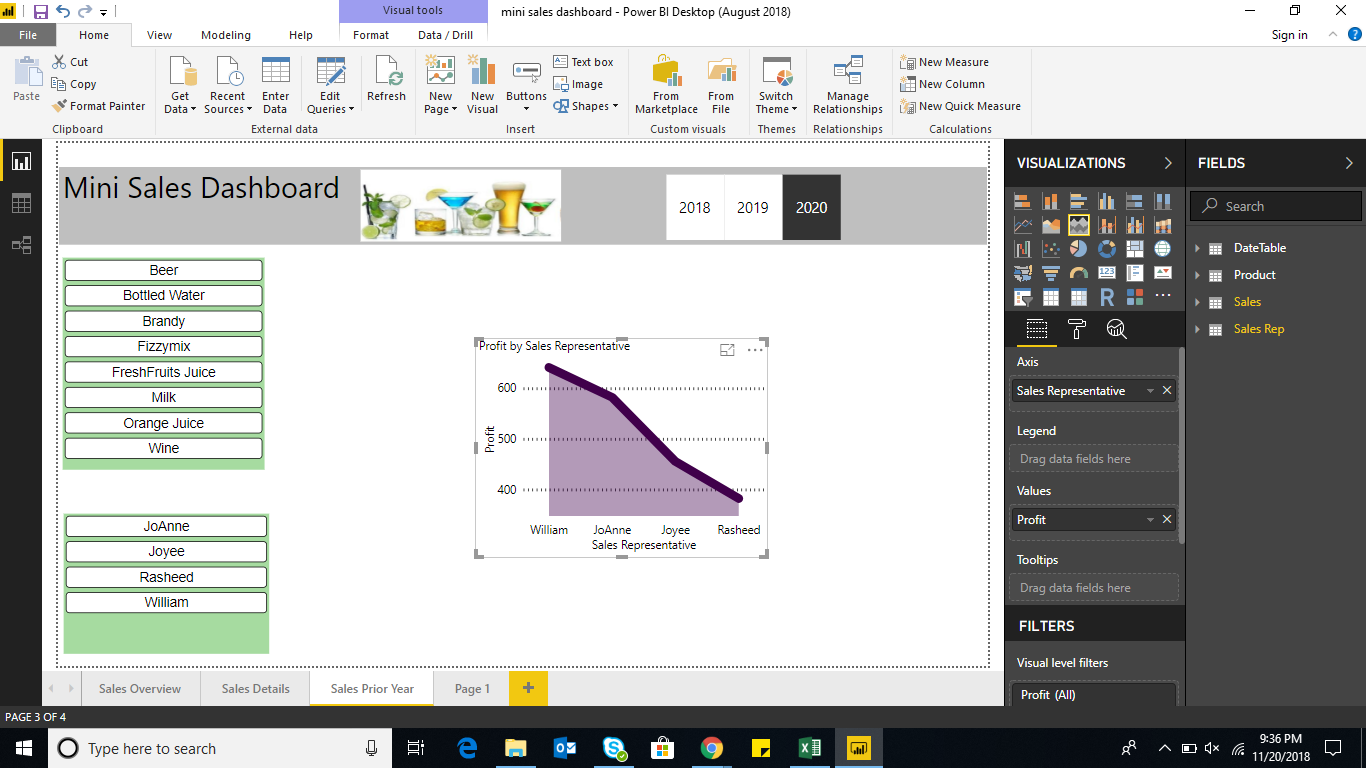

Layout of this report page (visuals, bound fields, positions):
{"tool":"powerbi","page":{"name":"Sales Prior Year","canvas":[1280,720],"ordinal":2},"visuals":[{"type":"textbox","title":"Mini Sales Dashboard","box":[1.4,33,1277.6,107.4],"z":1},{"type":"image","box":[389.6,31.7,330.4,108.8],"z":2},{"type":"slicer","fields":{"Values":["Sales.Year"]},"box":[813,39,287.7,100.5],"z":3},{"type":"ChicletSlicer1448559807354","fields":{"Category":["Product.Product Key"]},"box":[1.4,152.8,287.7,304.2],"z":4},{"type":"ChicletSlicer1448559807354","fields":{"Category":["Product.Sales Representative"]},"box":[2.8,505.2,293.2,205.1],"z":5},{"type":"stackedAreaChart","fields":{"Category":["Sales Rep.Sales Representative"],"Y":["Sales.Profit"]},"box":[364.8,151.4,403.4,302.9],"z":6}]}

Visuals, with their boxes on the page's 1280x720 design canvas (x1, y1, x2, y2). These are canvas units, not pixel positions in the 1366x768 screenshot, which may show the page scaled, cropped or inside an application window:
"Mini Sales Dashboard" textbox: <region>1, 33, 1279, 140</region>
image: <region>390, 32, 720, 140</region>
slicer - Sales.Year: <region>813, 39, 1101, 140</region>
ChicletSlicer1448559807354 - Product.Product Key: <region>1, 153, 289, 457</region>
ChicletSlicer1448559807354 - Product.Sales Representative: <region>3, 505, 296, 710</region>
stackedAreaChart - Sales Rep.Sales Representative x Sales.Profit: <region>365, 151, 768, 454</region>
